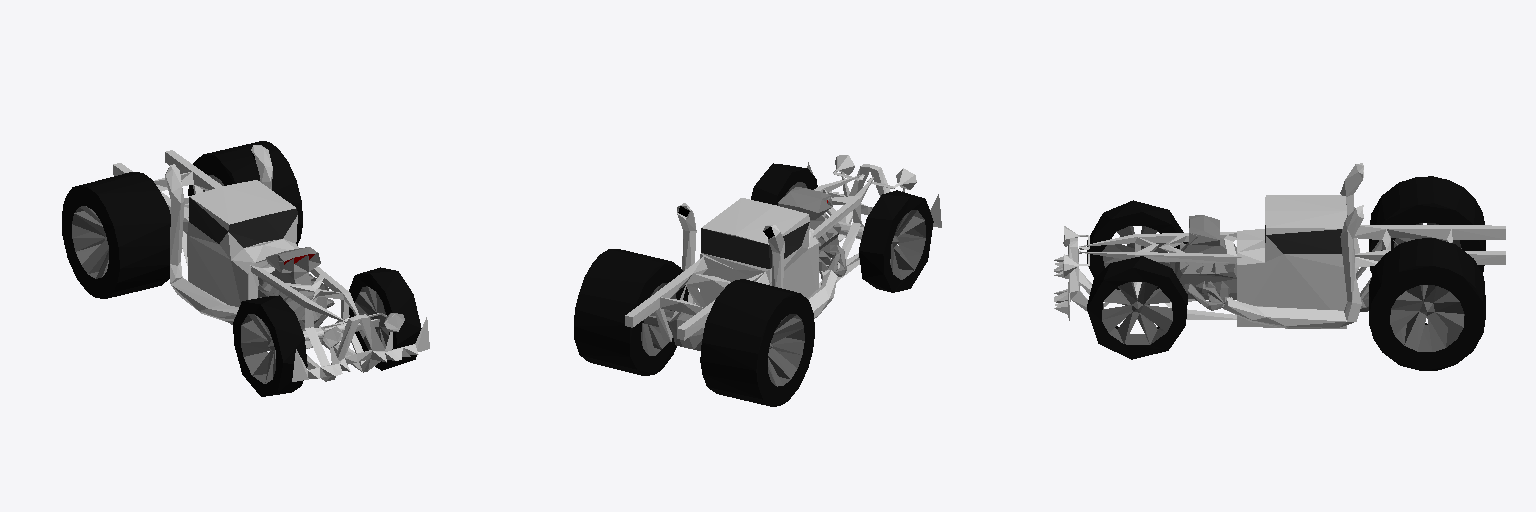
The model's file is hot_rod3.obj.
The picture shows the model from 3 angles: view 1: azimuth 30°, elevation 25°; view 2: azimuth 150°, elevation 25°; view 3: azimuth 270°, elevation 25°; orthographic projection.
Parts seen in each view (by area): view 1: Cube.001, Cylinder.007, Cylinder.006, Cylinder.005, Cylinder.008; view 2: Cube.001, Cylinder.007, Cylinder.008, Cylinder.006, Cylinder.005; view 3: Cube.001, Cylinder.008, Cylinder.005, Cylinder.007, Cylinder.006.
Part boxes in pixels (bbox=[...]): Cube.001: bbox=[113, 145, 429, 381]; Cylinder.007: bbox=[62, 172, 170, 298]; Cylinder.006: bbox=[233, 295, 307, 396]; Cylinder.005: bbox=[349, 267, 421, 370]; Cylinder.008: bbox=[188, 141, 302, 245]; Cube.001: bbox=[625, 155, 941, 350]; Cylinder.007: bbox=[700, 279, 814, 406]; Cylinder.008: bbox=[574, 249, 688, 375]; Cylinder.006: bbox=[859, 190, 933, 292]; Cylinder.005: bbox=[751, 163, 817, 205]; Cube.001: bbox=[1054, 163, 1505, 328]; Cylinder.008: bbox=[1369, 238, 1485, 370]; Cylinder.005: bbox=[1087, 256, 1187, 359]; Cylinder.007: bbox=[1369, 176, 1485, 273]; Cylinder.006: bbox=[1087, 200, 1187, 289].
Size of the model in its own units: 5.19 by 3.83 by 11.07.